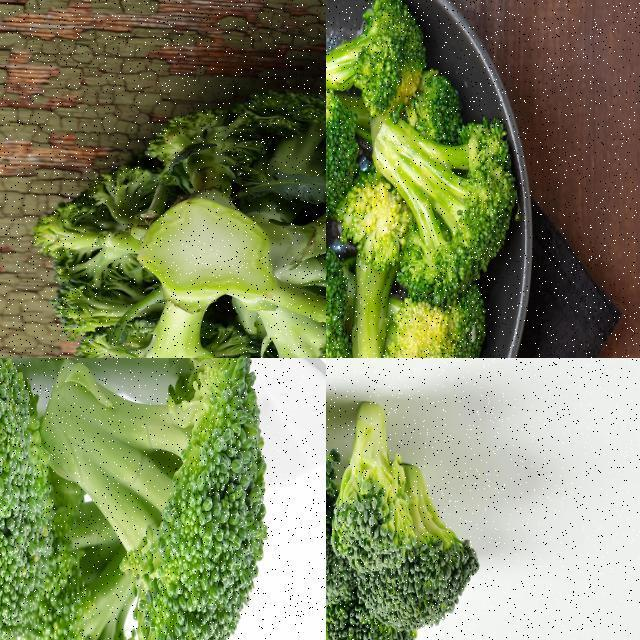broccoli: (26, 81, 325, 357), (41, 358, 267, 639), (326, 385, 484, 639), (365, 96, 512, 302), (19, 527, 162, 639), (326, 0, 429, 116), (365, 281, 491, 357), (326, 25, 362, 234)
